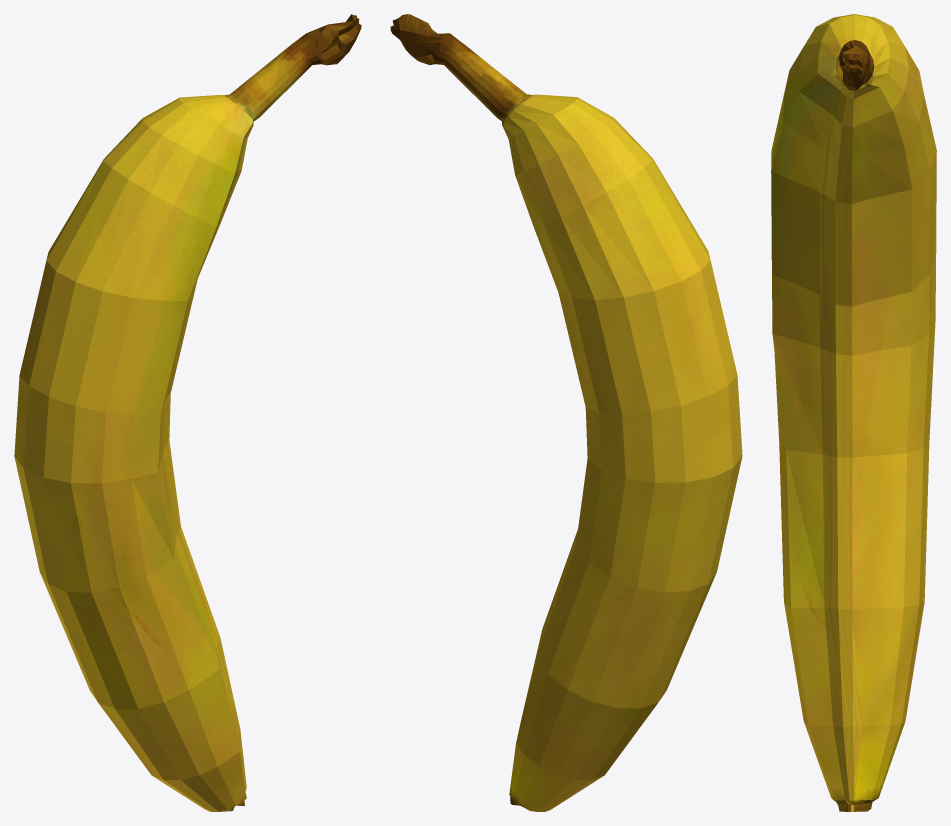
File: banana_splitted.obj
3 renders of one model, left to right at view 1: azimuth 30°, elevation 25°; view 2: azimuth 150°, elevation 25°; view 3: azimuth 270°, elevation 25°, orthographic. The views are drawn at different scales.
Parts seen in each view (by area): view 1: Half2_Banana.001, Half1_Banana; view 2: Half2_Banana.001, Half1_Banana; view 3: Half1_Banana, Half2_Banana.001.
Boxes of the visible parts, box(x1,y1,x2,y2) form: Half2_Banana.001: box(17, 14, 361, 447); Half1_Banana: box(14, 416, 246, 811); Half2_Banana.001: box(390, 14, 739, 447); Half1_Banana: box(509, 416, 742, 811); Half1_Banana: box(772, 286, 935, 811); Half2_Banana.001: box(771, 14, 936, 331).
Bounding box in the file's own units: 0.8522 × 1.82 × 0.3339.
Materials: 1 (1 with a texture image).
